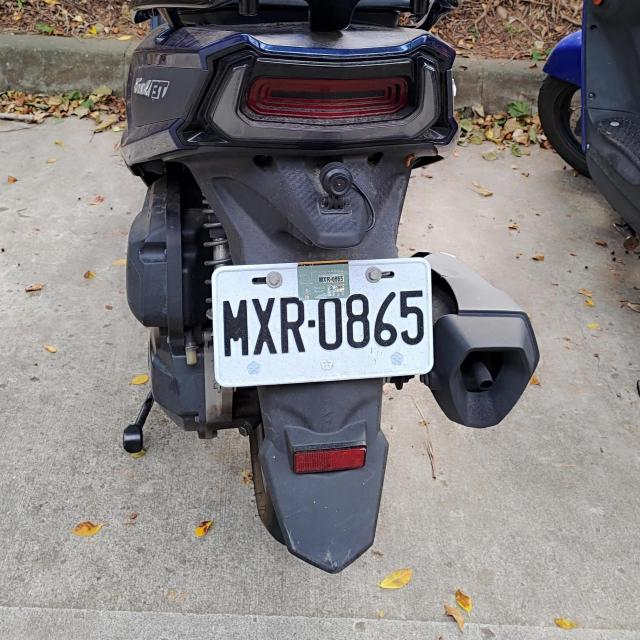W: (211, 261, 434, 384)
